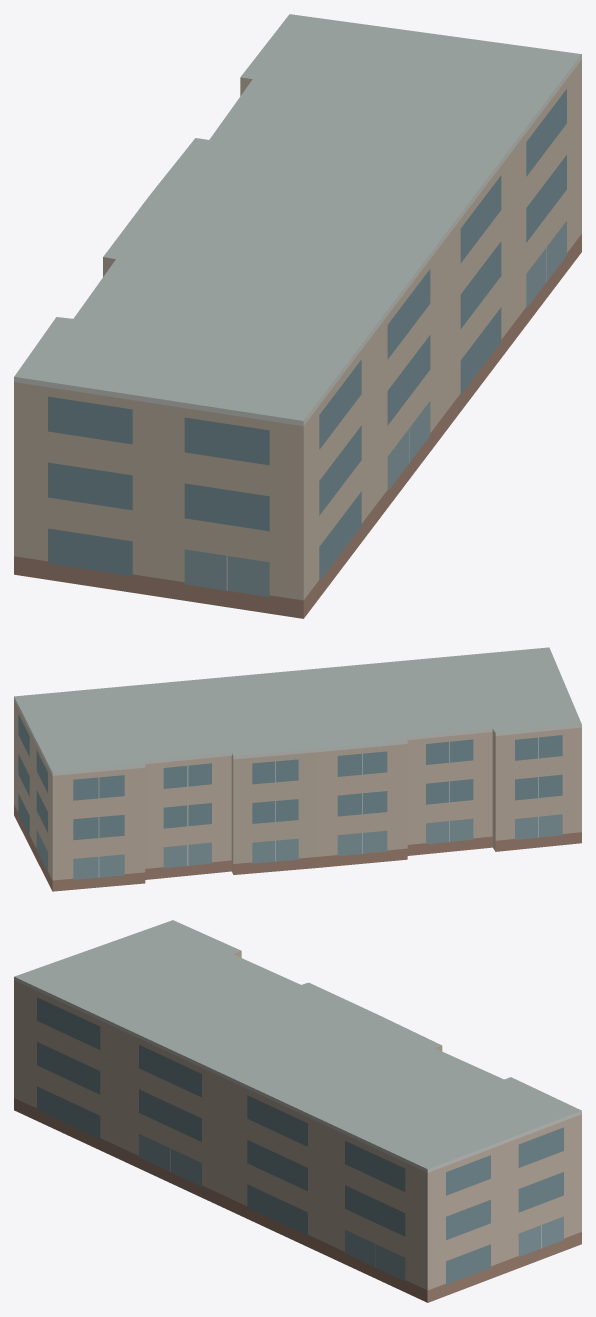
The model's file is survey-upis-32470409.glb.
3 renders of one model, top to bottom at view 1: azimuth 30°, elevation 25°; view 2: azimuth 150°, elevation 25°; view 3: azimuth 270°, elevation 25°, orthographic. The views are drawn at different scales.
Parts seen in each view (by area): view 1: survey-upis-32470409.tmp; view 2: survey-upis-32470409.tmp; view 3: survey-upis-32470409.tmp.
Part boxes in pixels (x1=…): survey-upis-32470409.tmp: x1=14, y1=14, x2=581, y2=618; survey-upis-32470409.tmp: x1=14, y1=647, x2=581, y2=891; survey-upis-32470409.tmp: x1=14, y1=920, x2=581, y2=1302.
Bounding box in the file's own units: 36.62 × 9.15 × 35.25.
